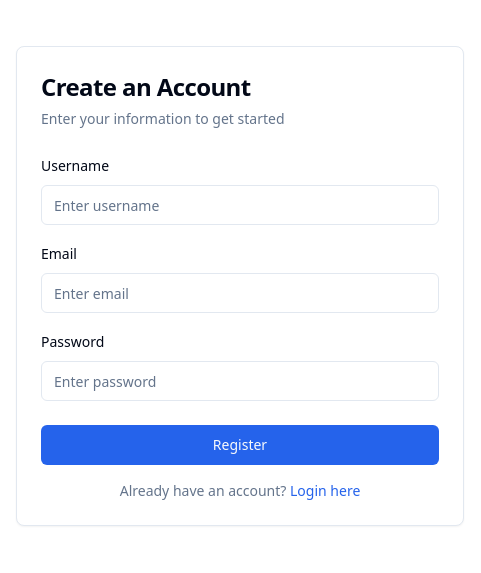
Test case: Registration › shows error message on registration failure
Type "Test User" into the field labelled "Username". click: (240, 205)
box: x1=41 y1=185 x2=439 y2=225
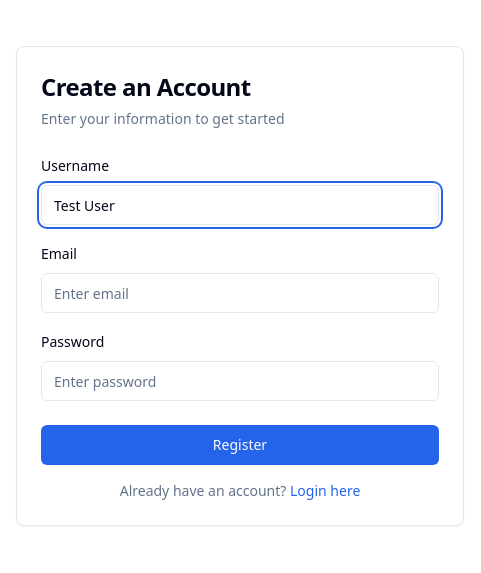
Type "existing@example.com" into the field labelled "Email". click: (240, 293)
box: x1=41 y1=273 x2=439 y2=313
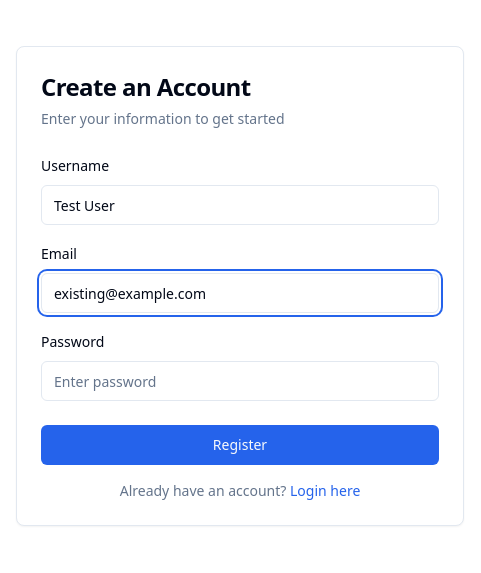
Type "password123" into the password field labelled "Password". click: (240, 381)
box: x1=41 y1=361 x2=439 y2=401
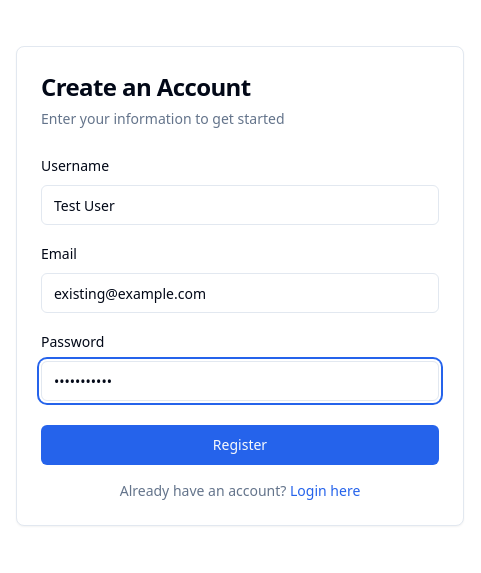
Click the button "Register". click: (240, 445)
box: x1=41 y1=425 x2=439 y2=465
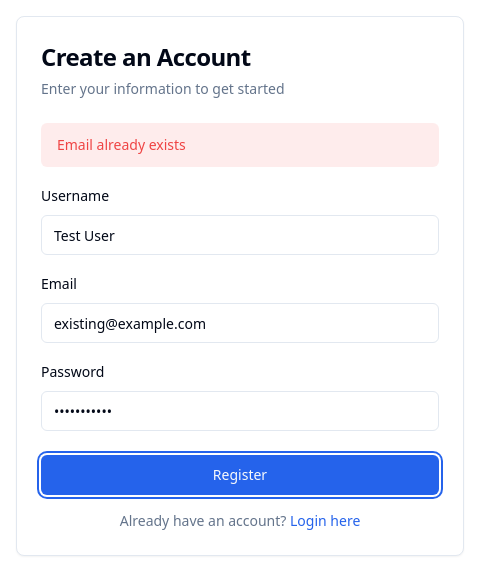
Now the text "Email already exists" is shown, box x1=41 y1=123 x2=439 y2=167
